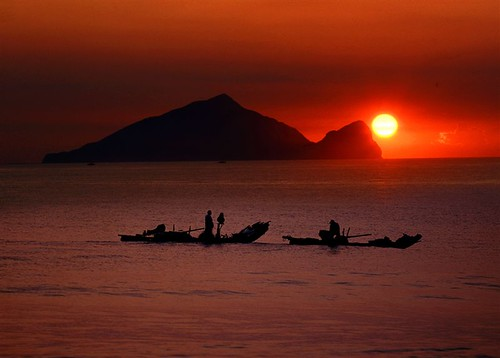turtleIsland: (42, 92, 383, 158)
